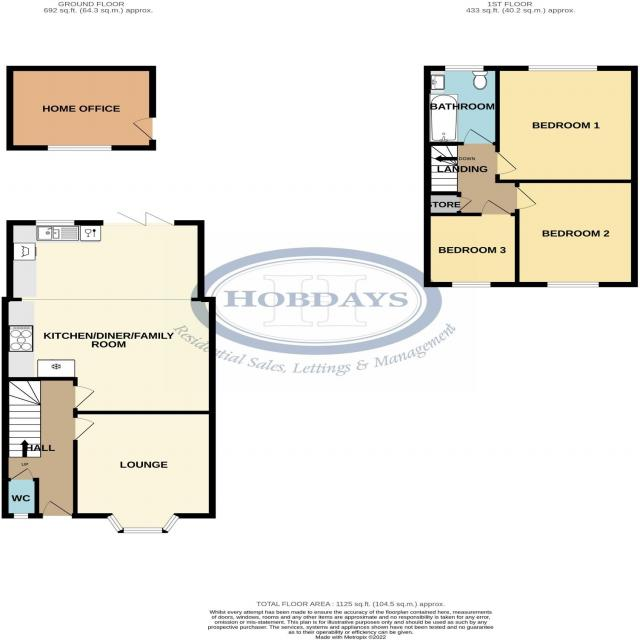DOOR: (514, 185, 538, 211), (42, 499, 73, 518), (73, 416, 96, 441), (495, 151, 518, 175), (73, 385, 96, 409), (480, 199, 512, 216), (462, 128, 494, 145), (10, 467, 34, 481)
FOLDING DOOR: (98, 206, 181, 230)
ROOM: (1, 211, 216, 415), (73, 410, 216, 534), (495, 65, 638, 183), (514, 179, 638, 288), (424, 199, 520, 287)
WINDOW: (106, 514, 180, 534), (527, 65, 599, 72), (546, 281, 600, 288), (451, 281, 492, 288), (444, 65, 485, 72), (35, 220, 75, 226), (13, 513, 29, 519)
